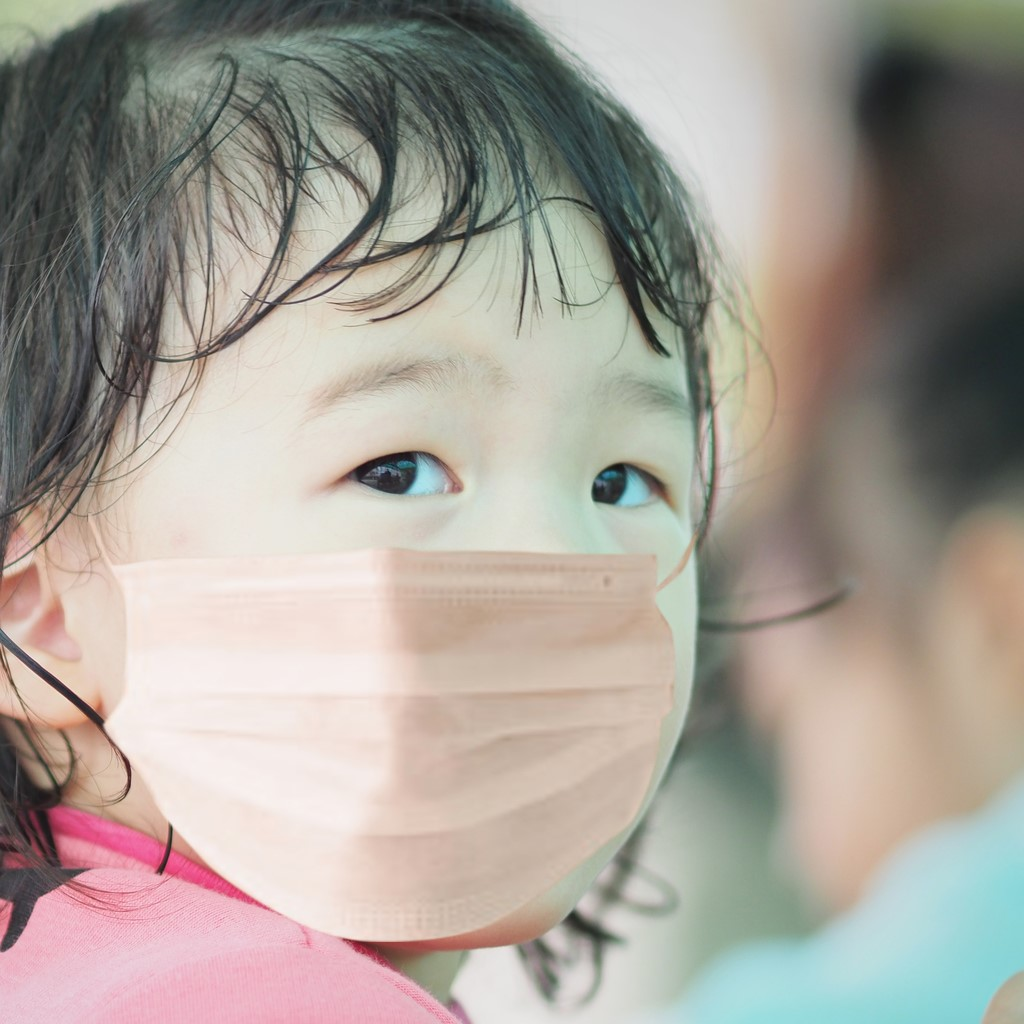con_mascara: (38, 52, 726, 959)
